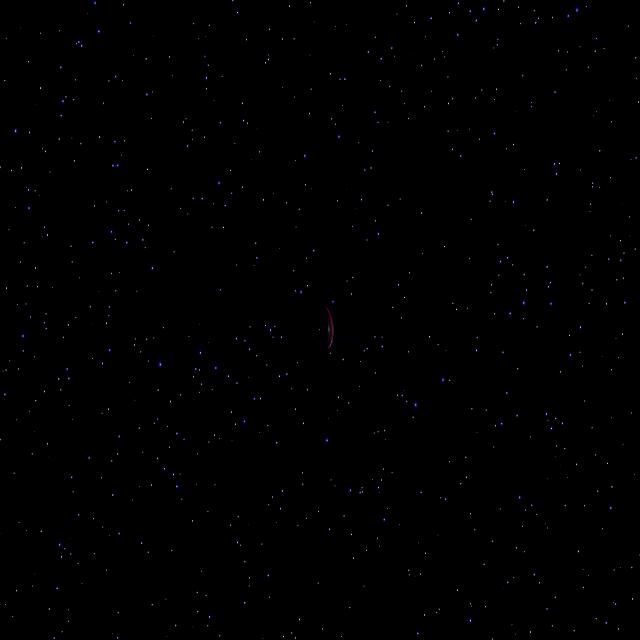large_debris: (315, 290, 374, 354)
